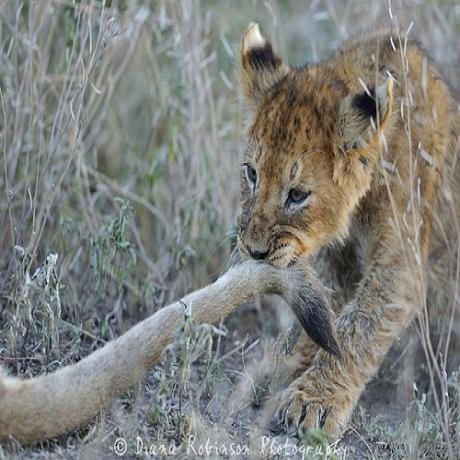Lion: (240, 17, 460, 440)
